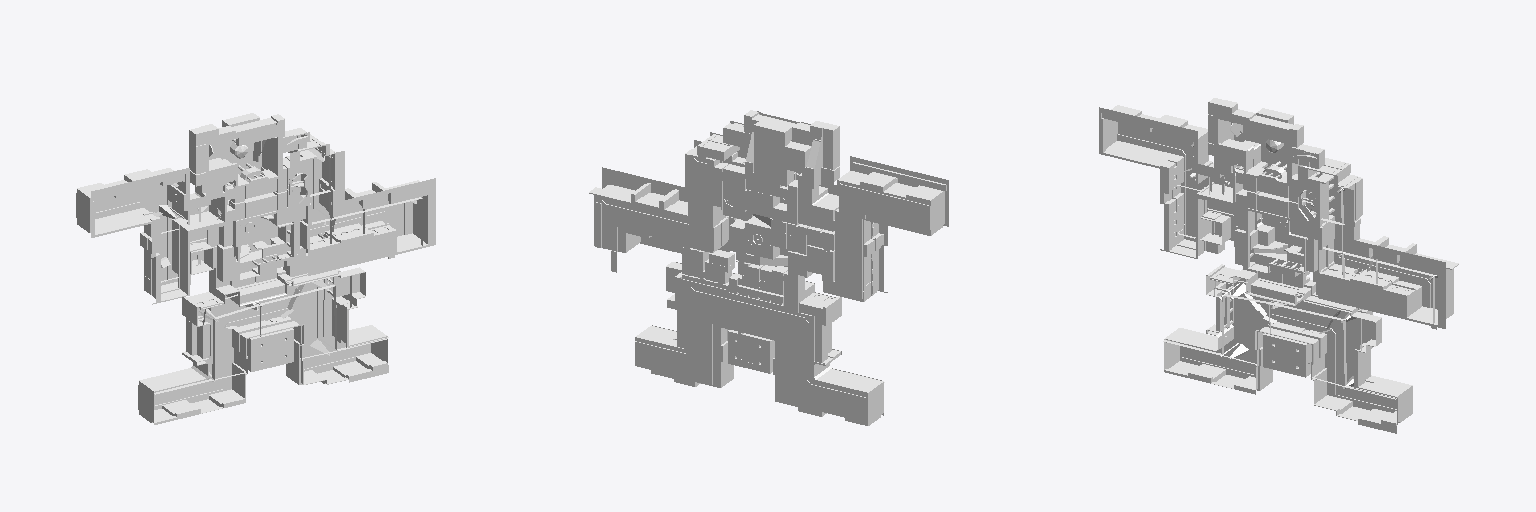
Rendered from Havana.obj.
The picture shows the model from 3 angles: view 1: azimuth 30°, elevation 25°; view 2: azimuth 150°, elevation 25°; view 3: azimuth 330°, elevation 25°; orthographic projection.
Parts seen in each view (by area): view 1: BSP_Object.model_0; view 2: BSP_Object.model_0; view 3: BSP_Object.model_0.
Boxes of the visible parts, box(x1,y1,x2,y2) form: BSP_Object.model_0: box(76, 113, 435, 424); BSP_Object.model_0: box(589, 110, 948, 425); BSP_Object.model_0: box(1099, 98, 1458, 433).
Size of the model in its own units: 142 by 112 by 13.6.